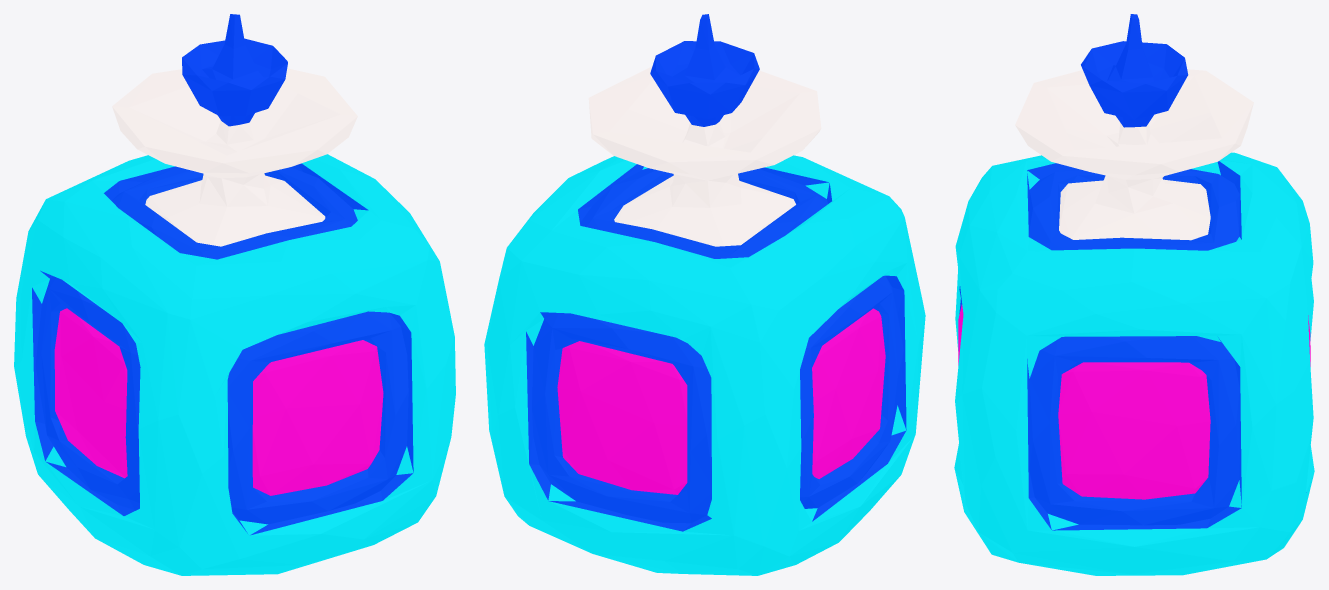
File: the_end_trap.glb
3 renders of one model, left to right at view 1: azimuth 30°, elevation 25°; view 2: azimuth 150°, elevation 25°; view 3: azimuth 270°, elevation 25°, orthographic.
Visible parts, largest first — view 1: the_end_trap_BAKED; view 2: the_end_trap_BAKED; view 3: the_end_trap_BAKED.
Part boxes in pixels (bbox=[...]): the_end_trap_BAKED: bbox=[14, 14, 455, 575]; the_end_trap_BAKED: bbox=[484, 14, 925, 575]; the_end_trap_BAKED: bbox=[954, 14, 1314, 575].
Bounding box in the file's own units: 1.65 × 2.57 × 1.65.
